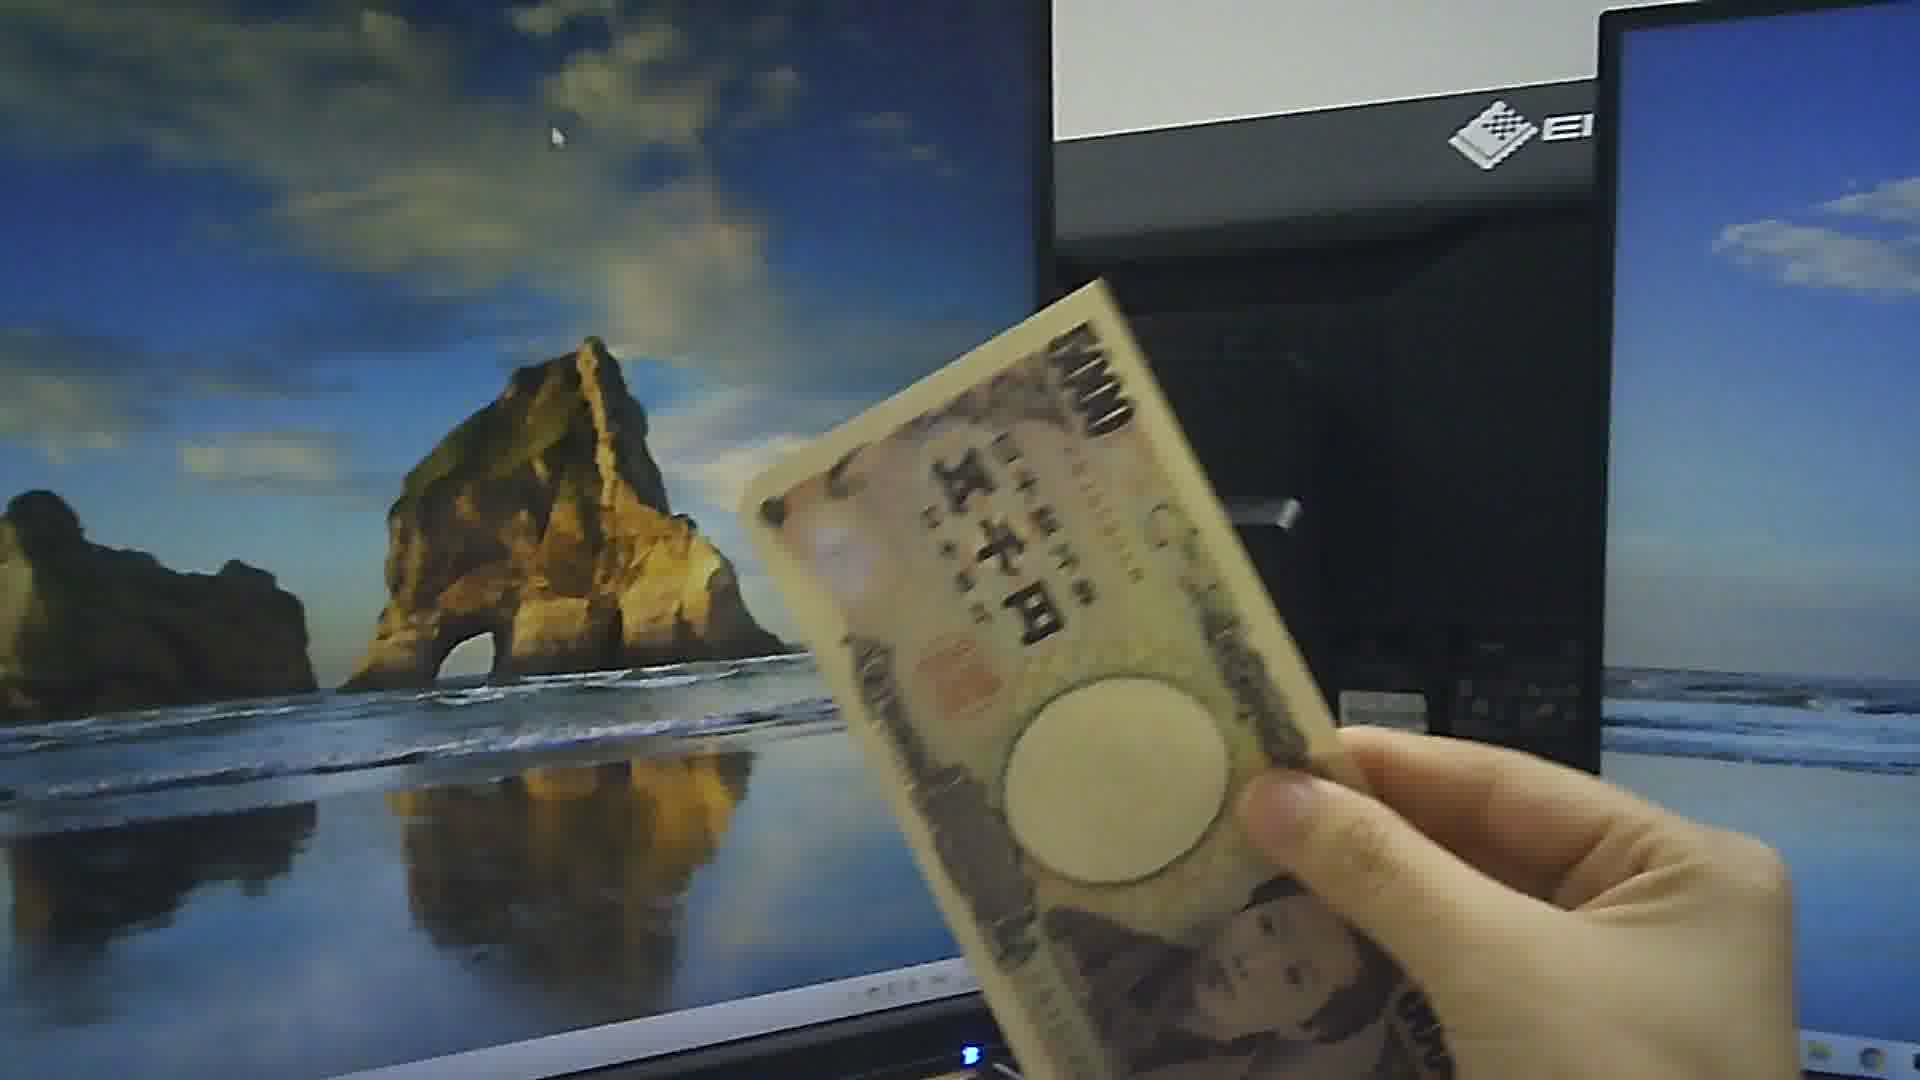5,000 Yen: (737, 280, 1485, 1073)
